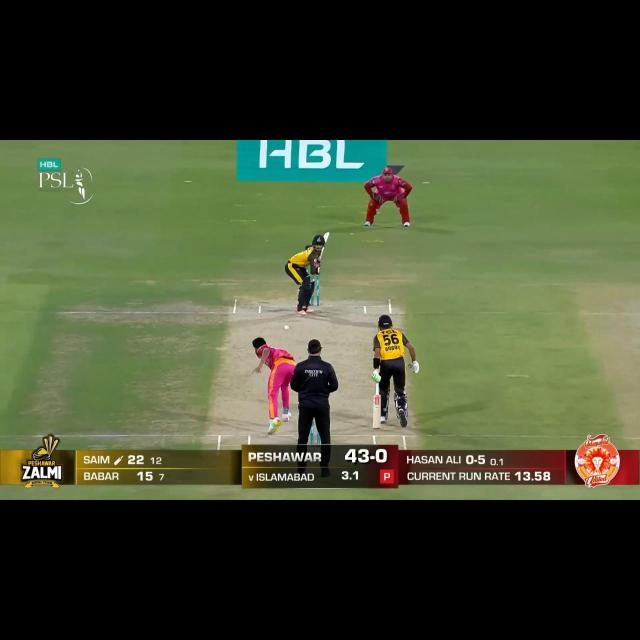bat: (316, 230, 332, 260), (372, 395, 382, 430)
toe: (371, 420, 382, 430), (322, 230, 332, 238)
